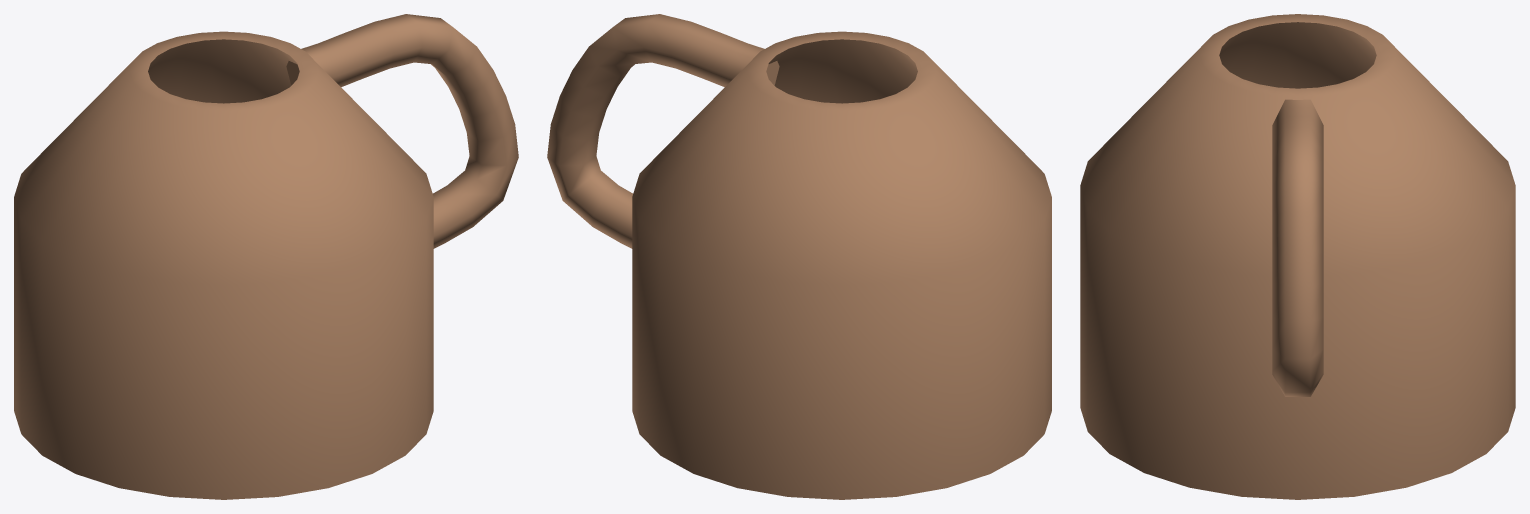
File: primitive-crafting-workshop-clay-water-jug-4df4a999__21584.glb
3 views of the same model, side by side, from view 1: azimuth 30°, elevation 25°; view 2: azimuth 150°, elevation 25°; view 3: azimuth 270°, elevation 25° (orthographic). The views are drawn at different scales.
Parts seen in each view (by area): view 1: clay-water-jug; view 2: clay-water-jug; view 3: clay-water-jug.
Boxes of the visible parts, x1,y1,x2,y2 form: clay-water-jug: [14, 14, 518, 499]; clay-water-jug: [547, 14, 1051, 499]; clay-water-jug: [1080, 14, 1515, 499].
Size of the model in its own units: 0.4403 by 0.3262 by 0.34.
